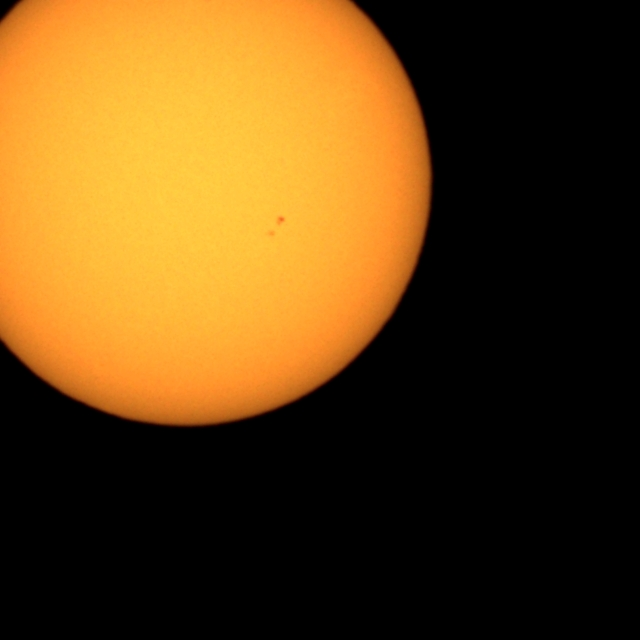sunspot: (265, 214, 287, 239)
